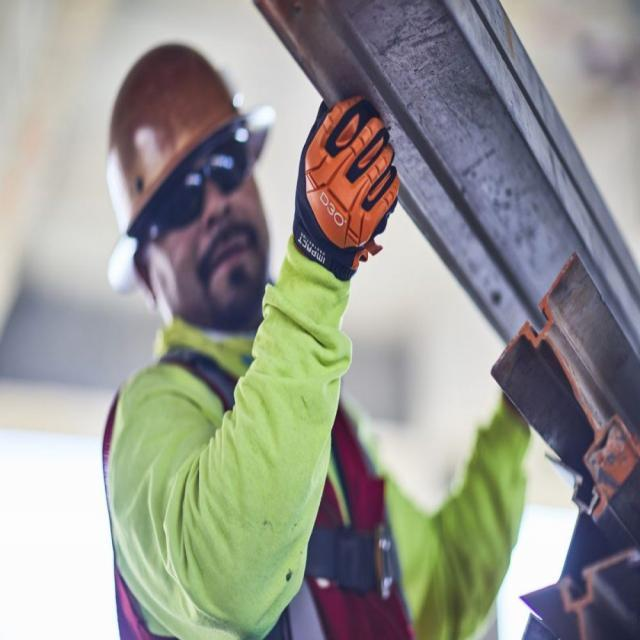Goggles: (142, 128, 254, 238)
gloves: (284, 90, 411, 290)
